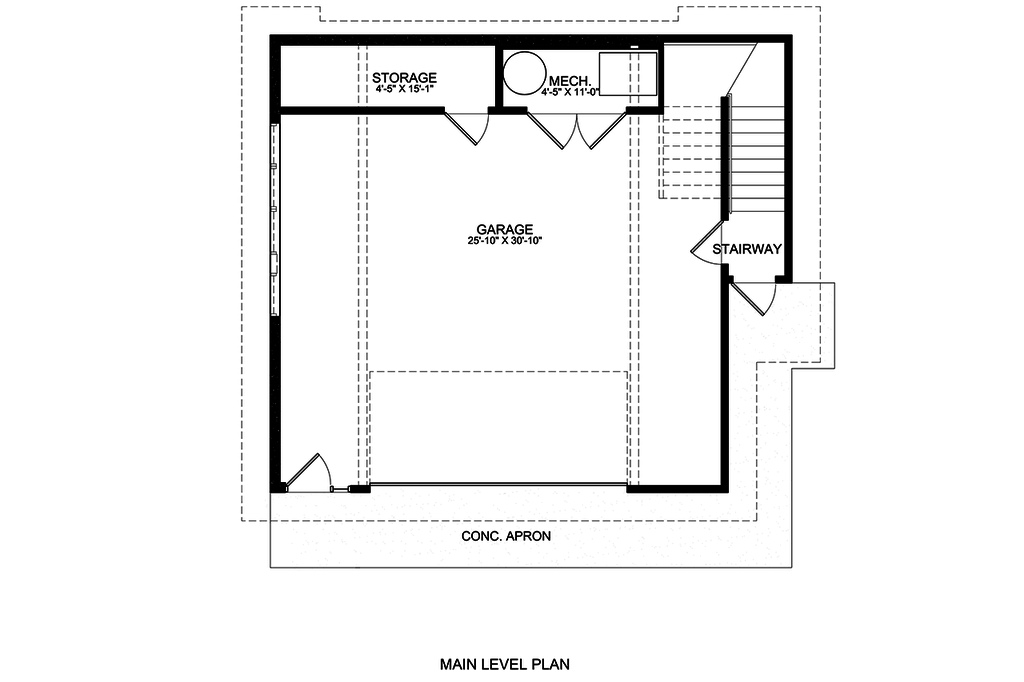door: (526, 97, 630, 167), (731, 270, 790, 327), (441, 106, 504, 156), (278, 454, 335, 501), (682, 218, 723, 269)
stairs: (719, 84, 802, 229)
